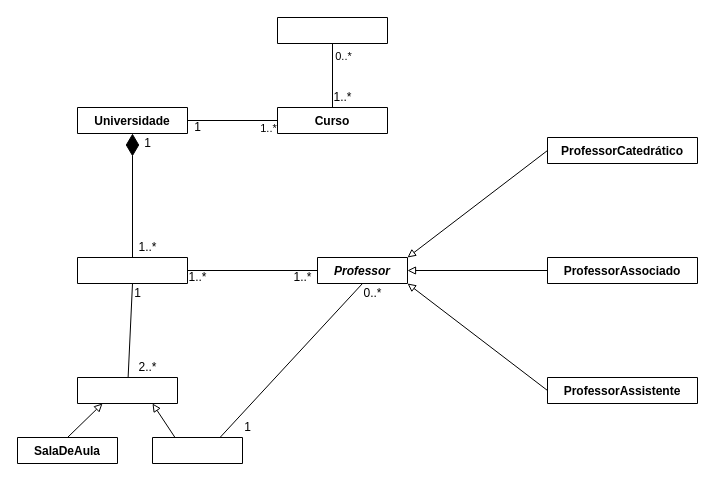
The diagram is 715 pixels wide and 481 high, and some of its shapes have lost their labels. Each missing label, with the centre of its shape:
"Departamento" belongs at (132,270).
"Escritório" belongs at (197,450).
"Estudante" belongs at (332,30).
"Sala" belongs at (127,390).
